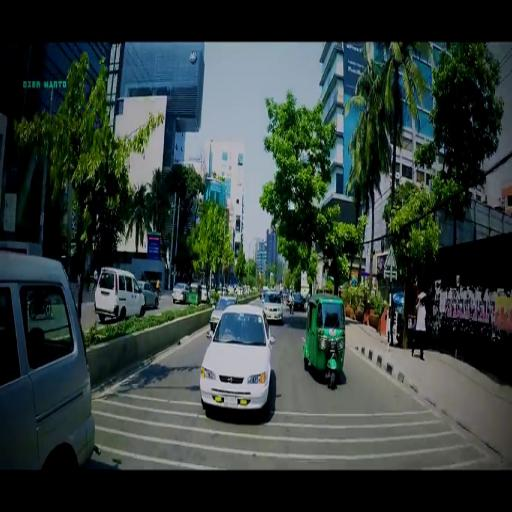car: (199, 304, 271, 412), (209, 296, 237, 328), (264, 290, 283, 321), (140, 281, 161, 307), (172, 284, 190, 302)
minivan: (94, 265, 146, 318)
three wheelers (CNG): (303, 292, 347, 388), (188, 280, 203, 304)
